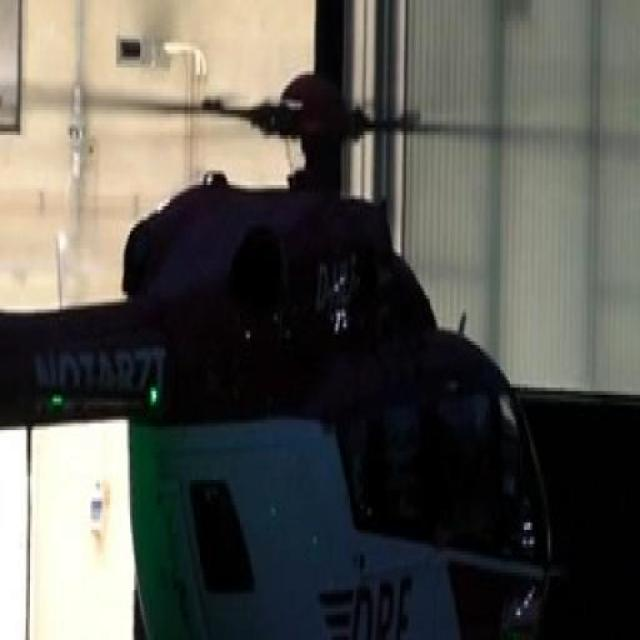drone: (0, 0, 575, 640)
